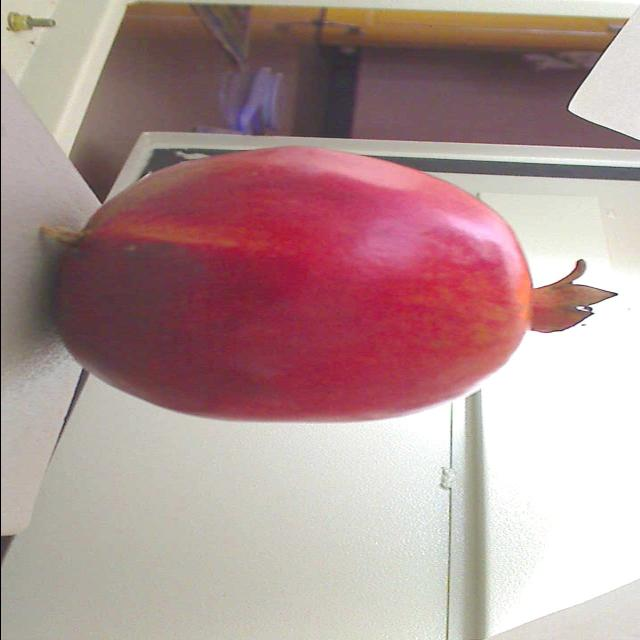pomegranate: (26, 135, 622, 433)
